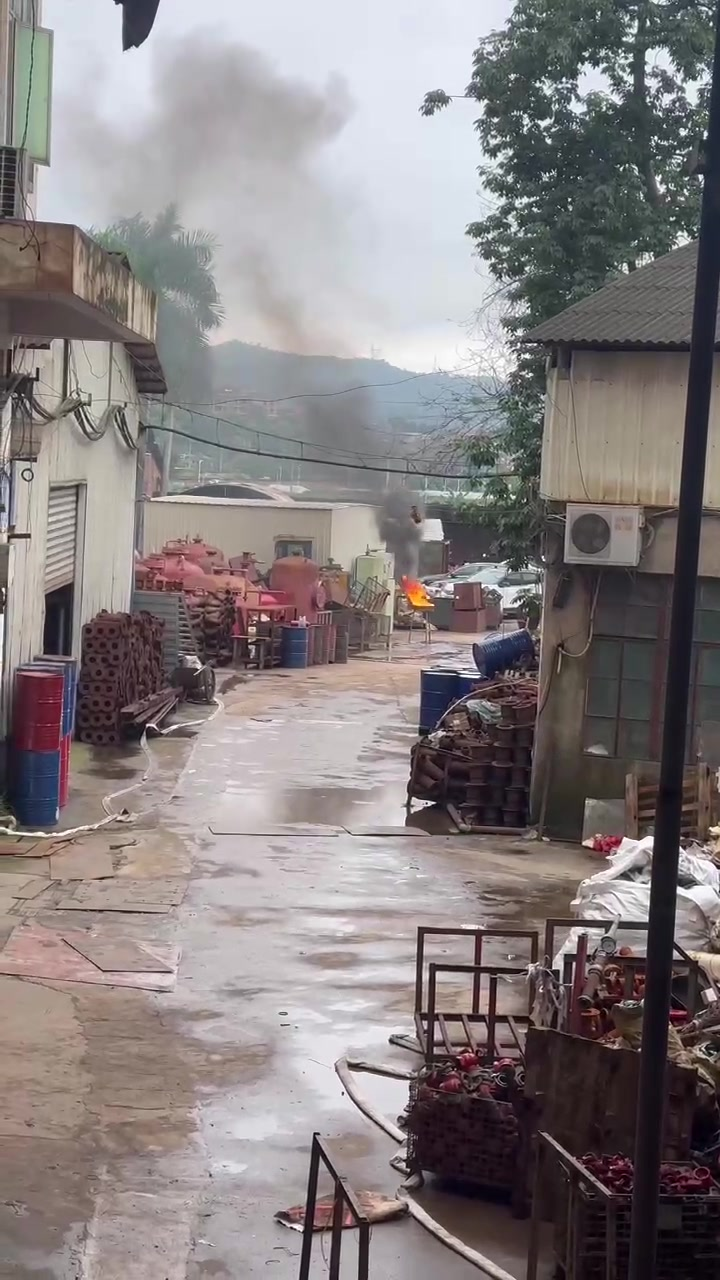fire: (400, 579, 433, 605)
